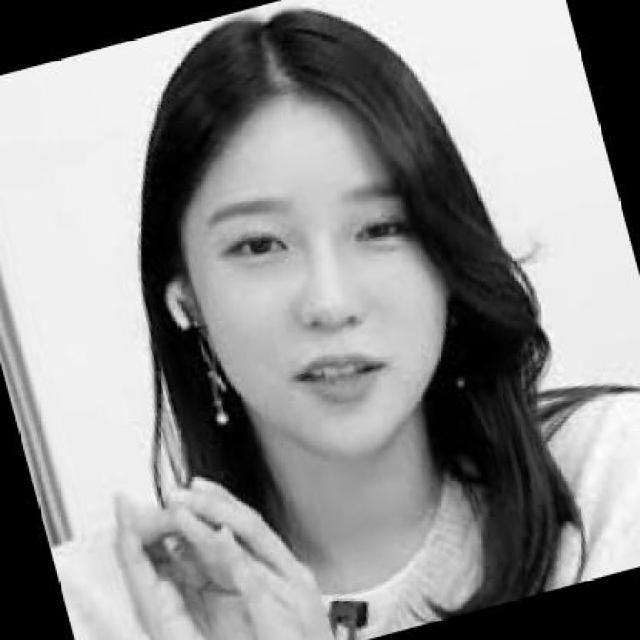earphone: (159, 256, 214, 354)
